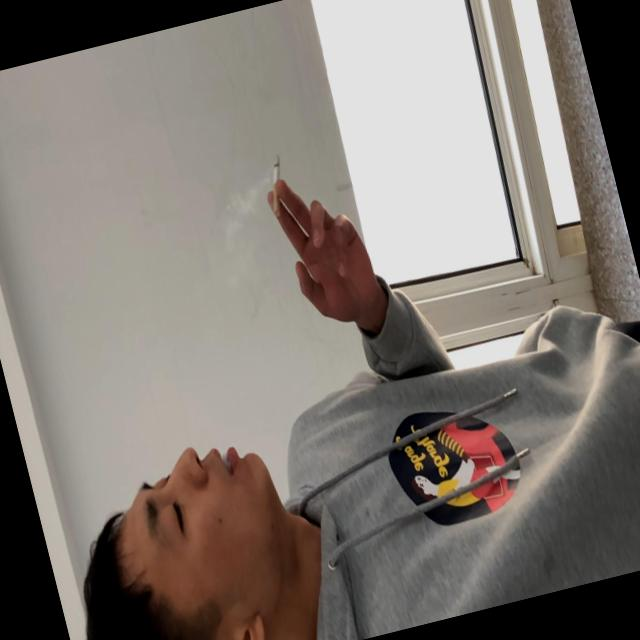smoke: (262, 142, 288, 203)
